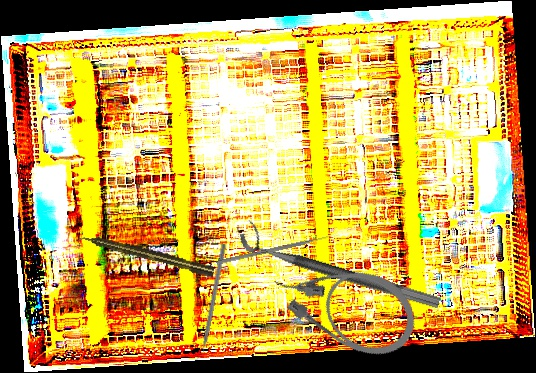Cannula: (263, 236, 428, 370)
Chopper: (192, 242, 227, 363)
Fixation Ring: (236, 218, 446, 311)
Handpiece: (77, 230, 216, 279)
Pusher: (216, 233, 337, 265)
